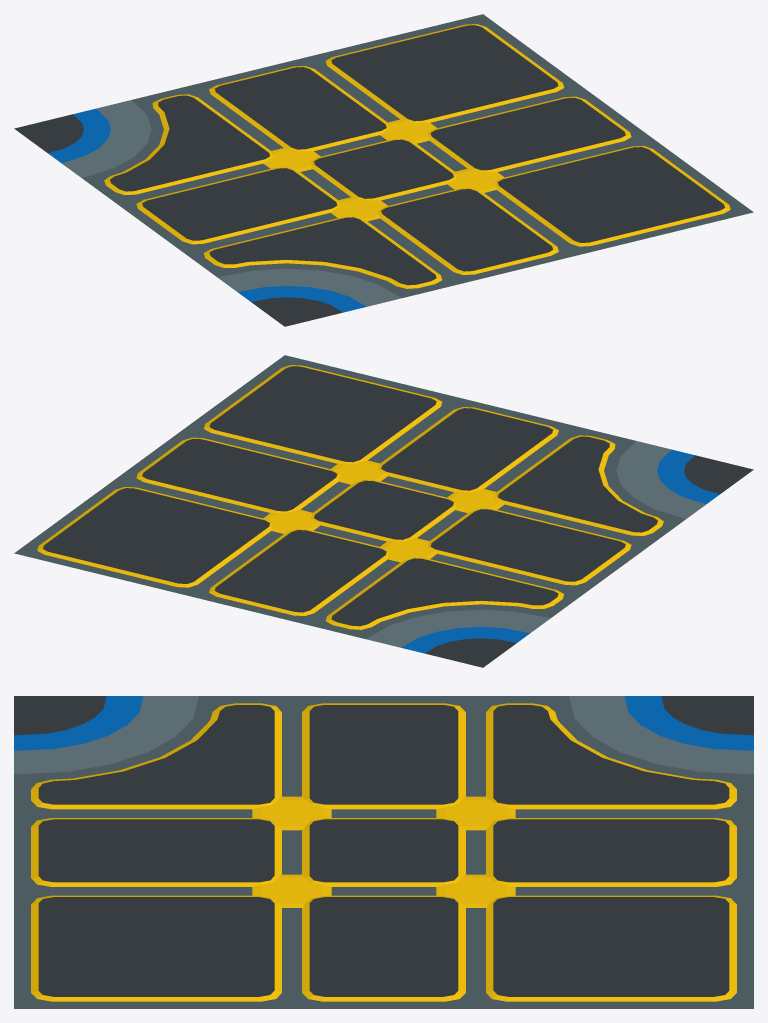
Rendered from Floor_type_C_021.fbx.
3 renders of one model, top to bottom at view 1: azimuth 30°, elevation 25°; view 2: azimuth 150°, elevation 25°; view 3: azimuth 270°, elevation 25°, orthographic. The views are drawn at different scales.
Parts seen in each view (by area): view 1: Floor_type_C_021; view 2: Floor_type_C_021; view 3: Floor_type_C_021.
Boxes of the visible parts, left/top/right/bottom form: Floor_type_C_021: left=14, top=14, right=753, bottom=326; Floor_type_C_021: left=14, top=355, right=753, bottom=667; Floor_type_C_021: left=14, top=696, right=753, bottom=1008.
Bounding box in the file's own units: 400 × 400 × 1.34.
